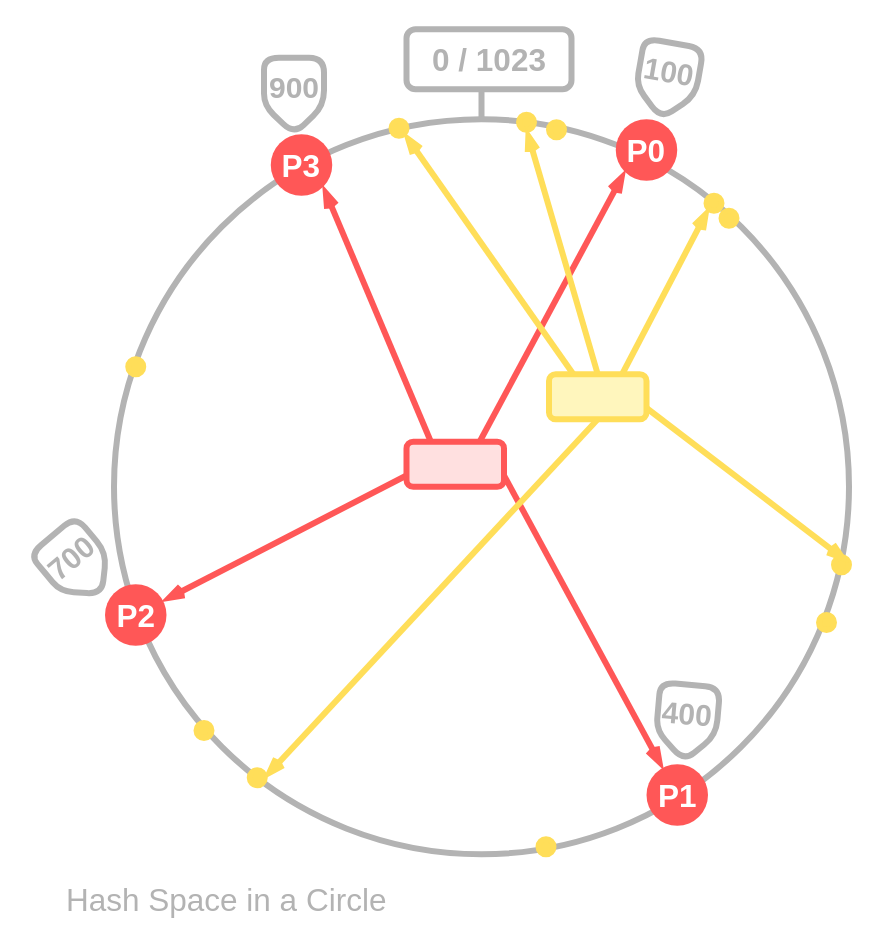
Image size: 890x947. Some labels were removed from this diagram. Here are the shapes that lost their labels. From the top down, the centre of each, then its label:
At pixel 597 396: "keys".
At pixel 454 463: "slots".
